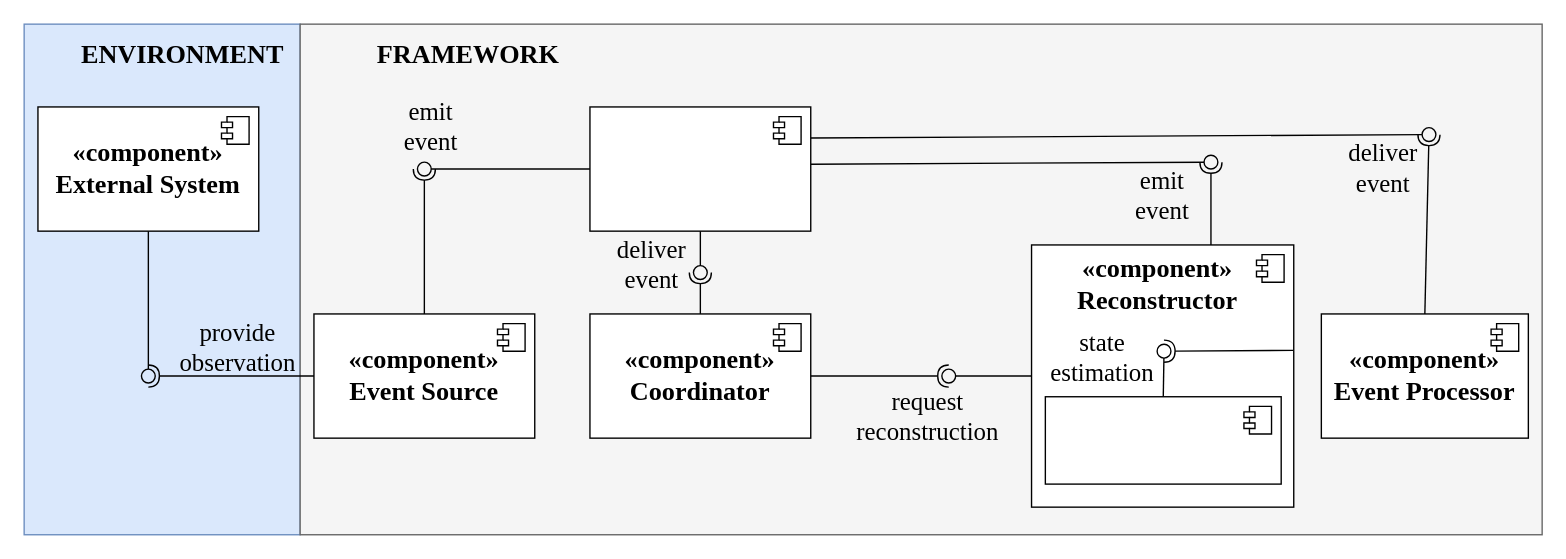
Image size: 1566x559. Some labels were removed from this diagram. The shapes that lost their labels are listed below. From the top down, each one's centre as x and y in pixels, then its label:
At point (700, 168): "«component» Event Stream".
At point (1162, 439): "«component» Predictor".
